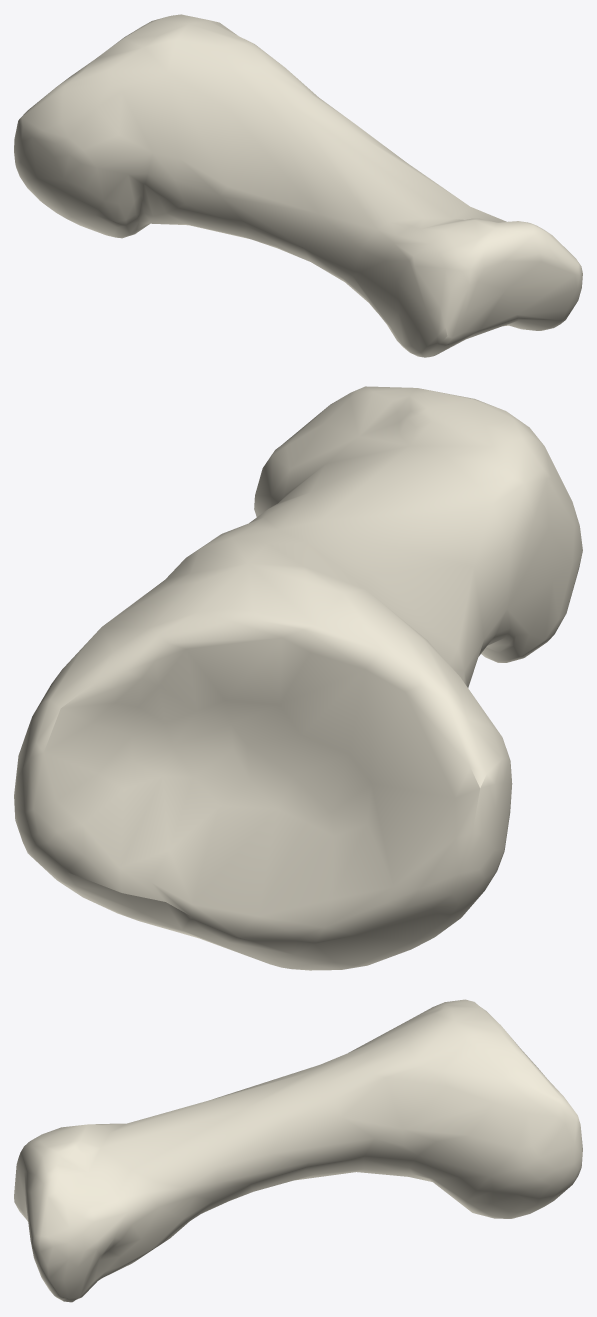
Rendered from fma32641.glb.
3 views of the same model, one above another, from view 1: azimuth 30°, elevation 25°; view 2: azimuth 150°, elevation 25°; view 3: azimuth 270°, elevation 25° (orthographic). The views are drawn at different scales.
Visible parts, largest first — view 1: FMA32641; view 2: FMA32641; view 3: FMA32641.
Boxes of the visible parts, left/top/right/bottom form: FMA32641: left=14, top=14, right=582, bottom=357; FMA32641: left=14, top=386, right=582, bottom=970; FMA32641: left=14, top=999, right=582, bottom=1302.
Size of the model in its own units: 0.0177 by 0.0102 by 0.0259.
